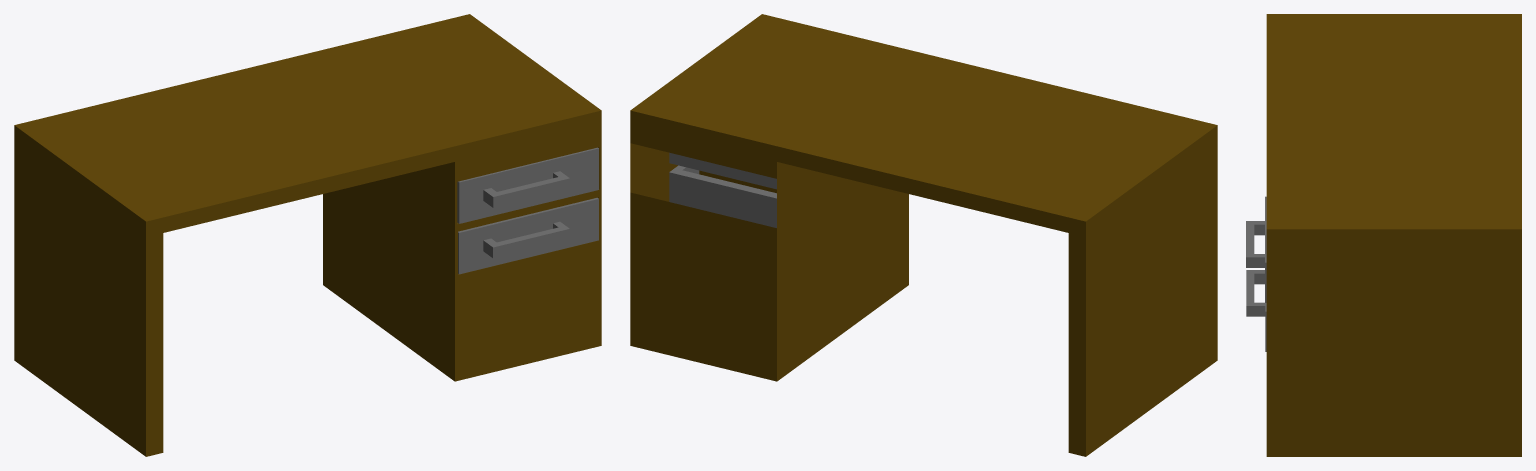
The model's file is Desk1.fbx.
3 views of the same model, side by side, from view 1: azimuth 30°, elevation 25°; view 2: azimuth 150°, elevation 25°; view 3: azimuth 270°, elevation 25° (orthographic). The views are drawn at different scales.
Parts seen in each view (by area): view 1: polySurface5, Desk1:pCube6, Desk1:pCube5; view 2: polySurface5, Desk1:pCube6, Desk1:pCube5; view 3: polySurface5, Desk1:pCube5, Desk1:pCube6.
Boxes of the visible parts, x1,y1,x2,y2 form: polySurface5: [14, 14, 601, 456]; Desk1:pCube6: [458, 197, 598, 274]; Desk1:pCube5: [457, 147, 598, 223]; polySurface5: [630, 14, 1217, 456]; Desk1:pCube6: [669, 165, 776, 227]; Desk1:pCube5: [669, 152, 776, 189]; polySurface5: [1266, 14, 1521, 456]; Desk1:pCube5: [1246, 196, 1266, 302]; Desk1:pCube6: [1246, 270, 1266, 351].
Size of the model in its own units: 6.93 by 3.42 by 3.75.
